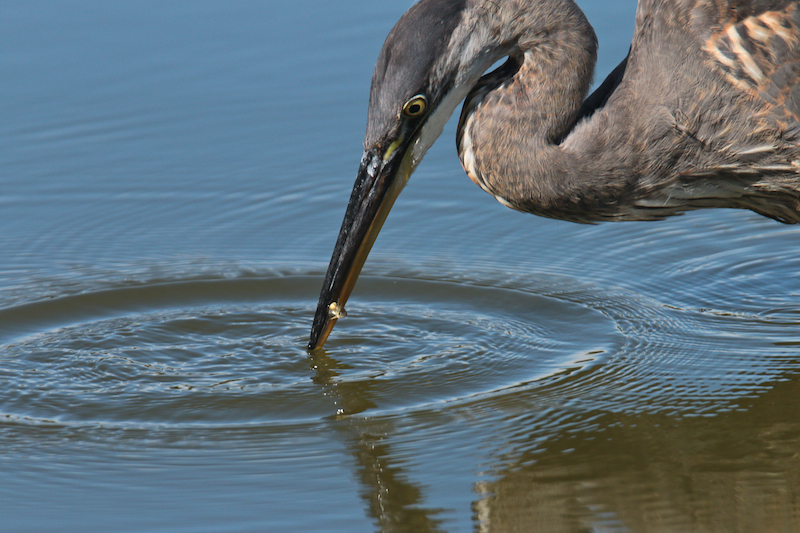heron: (274, 3, 797, 381)
